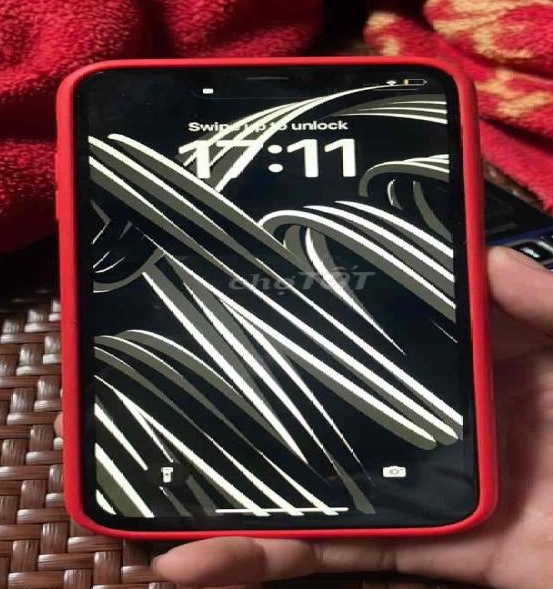scratch: (76, 63, 146, 102)
